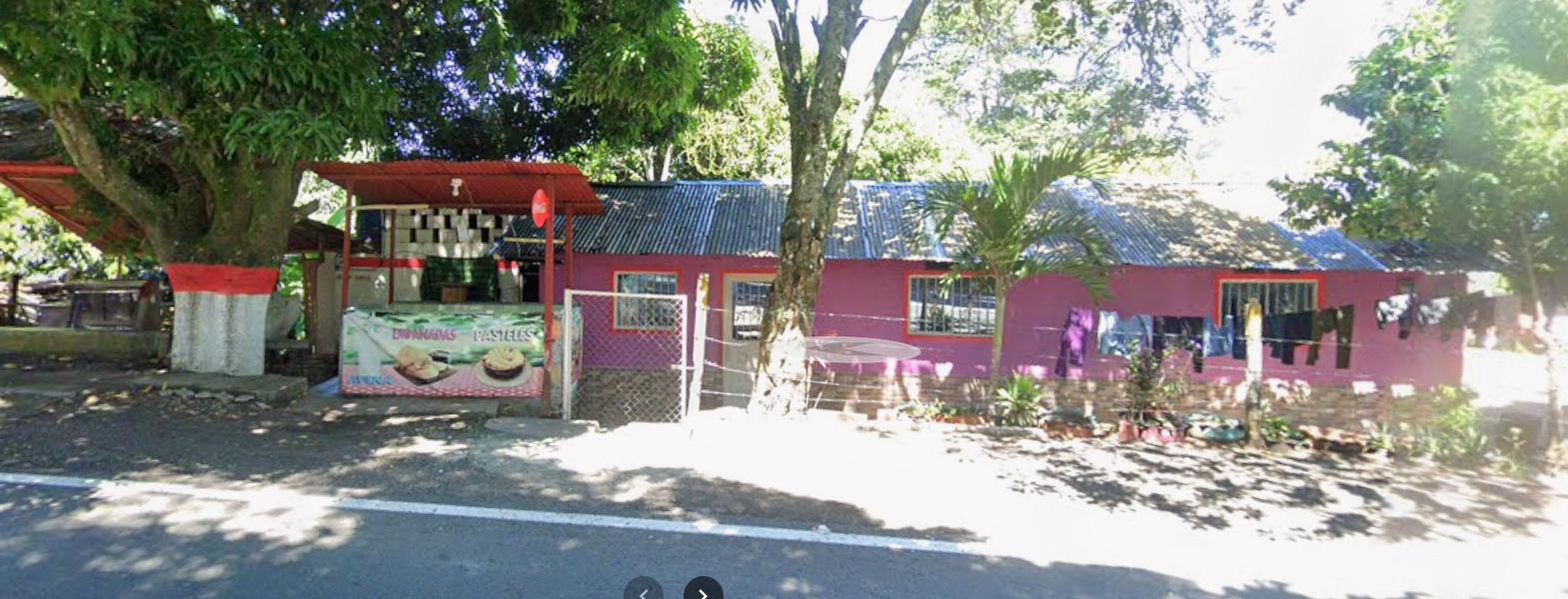casa: (794, 177, 1493, 426), (572, 181, 786, 422)
